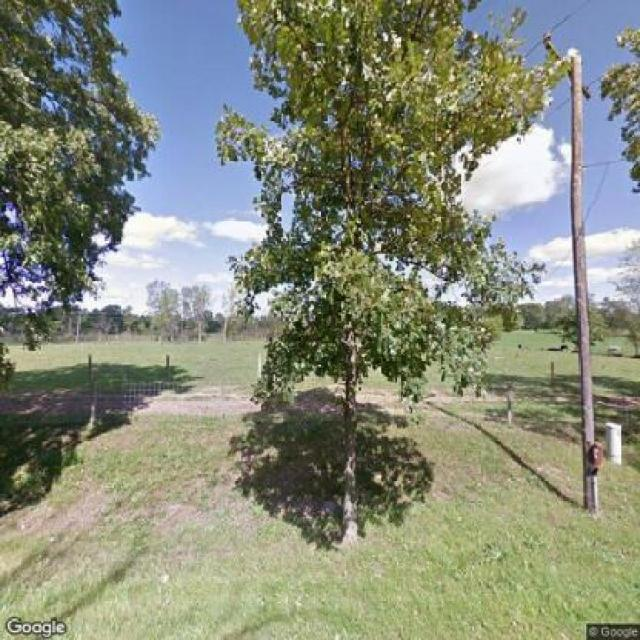pole: (532, 18, 625, 514)
